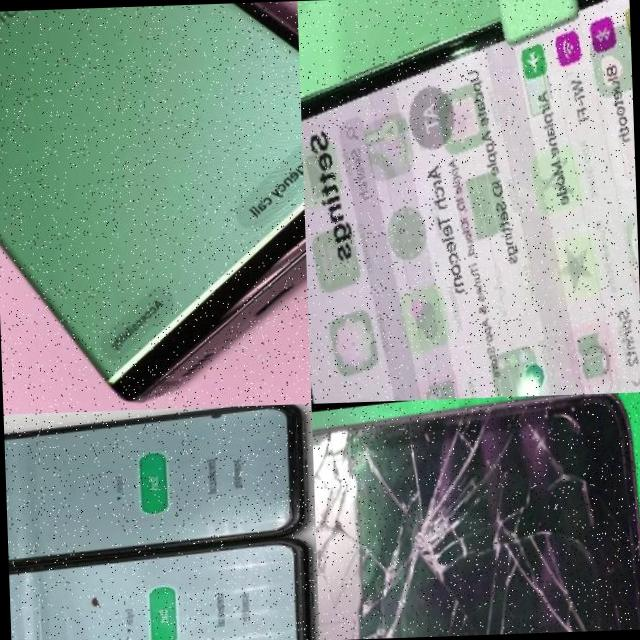dead pixel: (74, 584, 112, 610), (198, 406, 236, 429)
screen crack: (311, 393, 640, 640)
